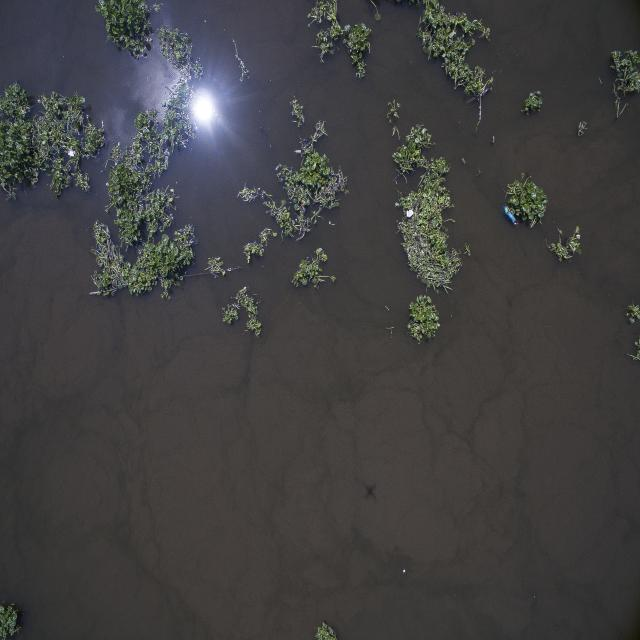plastic: (498, 194, 522, 233), (66, 146, 82, 162), (403, 210, 418, 222)
